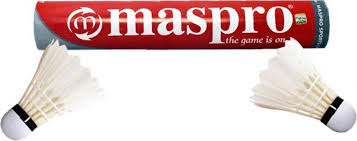shuttle: (253, 38, 353, 141), (1, 44, 107, 139)
